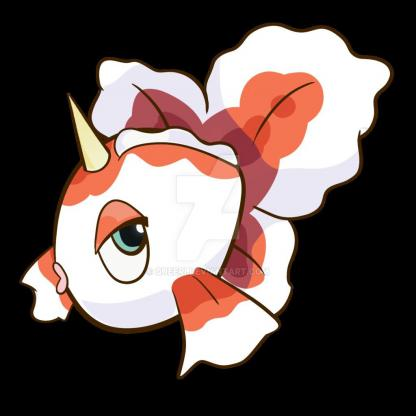Goldeen: (31, 21, 389, 390)
